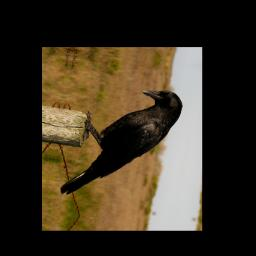Crow: (58, 78, 185, 212)
